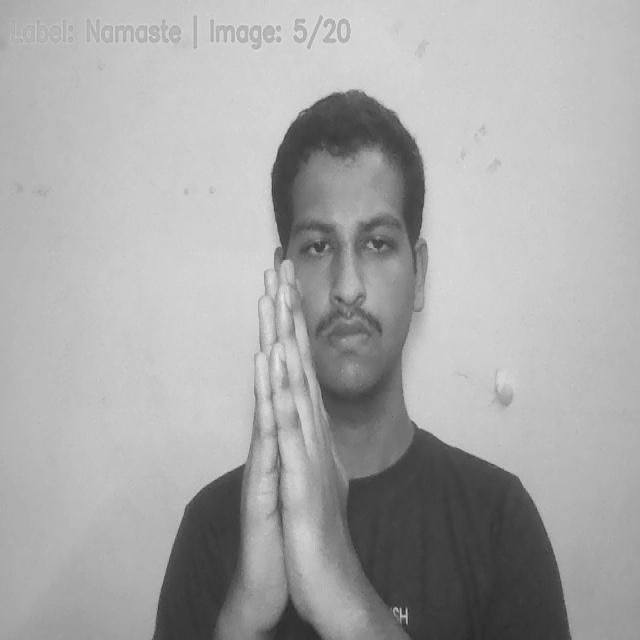Namaste: (243, 265, 340, 640)
